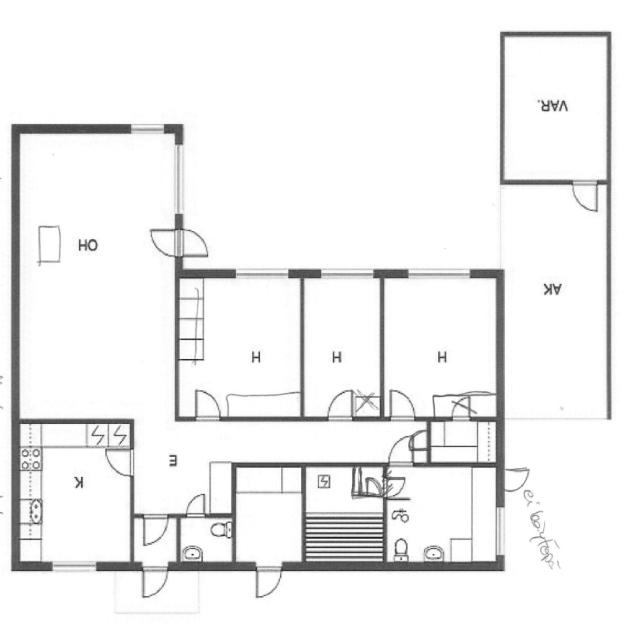door: (146, 226, 212, 258), (385, 384, 419, 424), (190, 385, 225, 423), (138, 560, 172, 599), (324, 385, 357, 424), (103, 445, 138, 480), (252, 562, 284, 600), (386, 434, 416, 470), (570, 178, 600, 213), (140, 512, 169, 546), (183, 490, 210, 520), (382, 475, 408, 499), (450, 398, 472, 422)
window: (402, 261, 477, 282), (169, 138, 188, 218), (314, 262, 381, 282), (228, 263, 296, 282), (44, 556, 104, 576), (124, 118, 172, 136), (494, 504, 507, 558)
zone: (16, 131, 180, 427), (174, 274, 304, 419), (13, 419, 135, 565), (381, 272, 500, 419), (501, 32, 611, 183), (302, 272, 384, 418), (384, 464, 500, 566), (303, 462, 386, 566), (234, 464, 305, 568), (427, 420, 500, 463), (178, 514, 234, 566)
